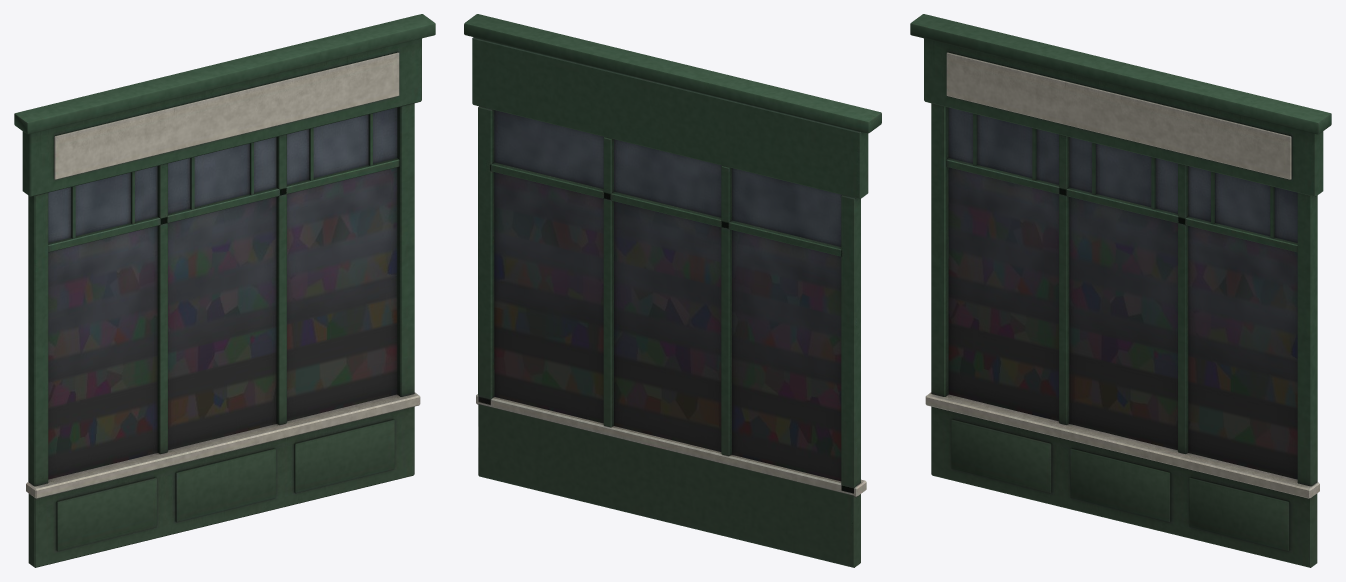
Rendered from shop_town_30_green.glb.
3 renders of one model, left to right at view 1: azimuth 30°, elevation 25°; view 2: azimuth 150°, elevation 25°; view 3: azimuth 330°, elevation 25°, orthographic.
Visible parts, largest first — view 1: shop_town_30_green; view 2: shop_town_30_green; view 3: shop_town_30_green.
Part boxes in pixels (bbox=[...]): shop_town_30_green: bbox=[14, 14, 435, 567]; shop_town_30_green: bbox=[464, 14, 881, 567]; shop_town_30_green: bbox=[910, 14, 1331, 567].
Size of the model in its own units: 3.44 by 3.65 by 0.2.
Materials: 1 (1 with a texture image).
